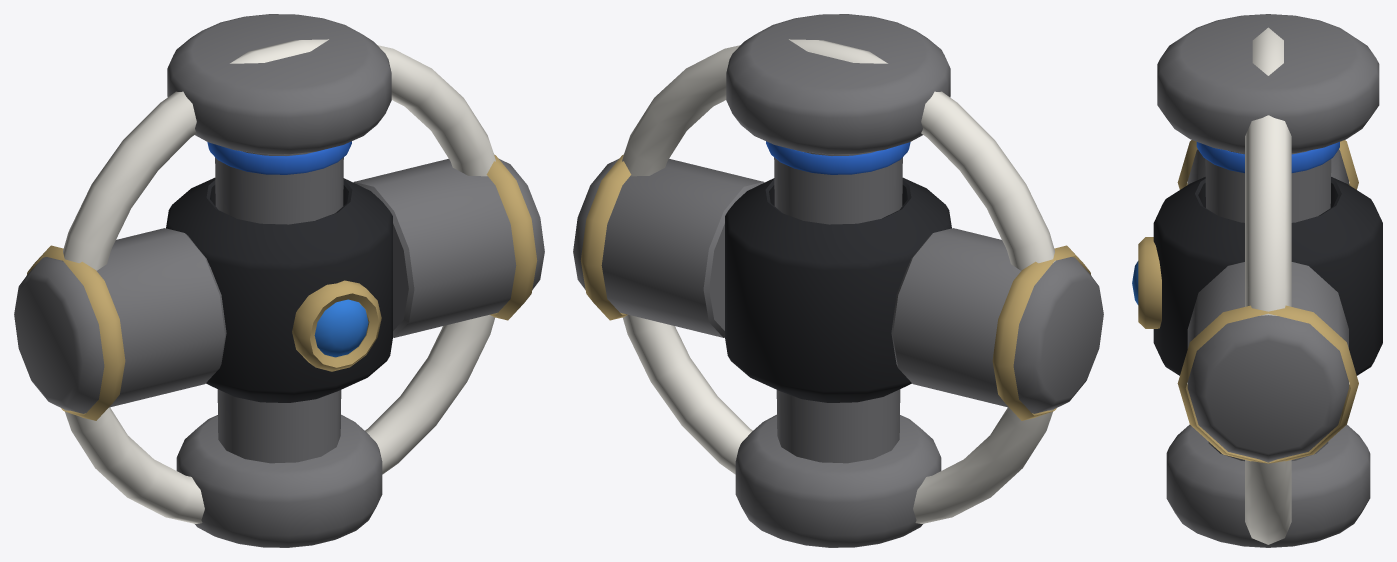
Rendered from Kit_Limb_ProSpine_S.glb.
3 renders of one model, left to right at view 1: azimuth 30°, elevation 25°; view 2: azimuth 150°, elevation 25°; view 3: azimuth 270°, elevation 25°, orthographic.
Visible parts, largest first — view 1: Kit_Limb_ProSpine_S; view 2: Kit_Limb_ProSpine_S; view 3: Kit_Limb_ProSpine_S.
Part boxes in pixels (box(x1,y1,x2,y2)): Kit_Limb_ProSpine_S: box(14, 14, 544, 547); Kit_Limb_ProSpine_S: box(573, 14, 1103, 547); Kit_Limb_ProSpine_S: box(1132, 14, 1382, 547).
Size of the model in its own units: 0.2678 by 0.2596 by 0.1245.
